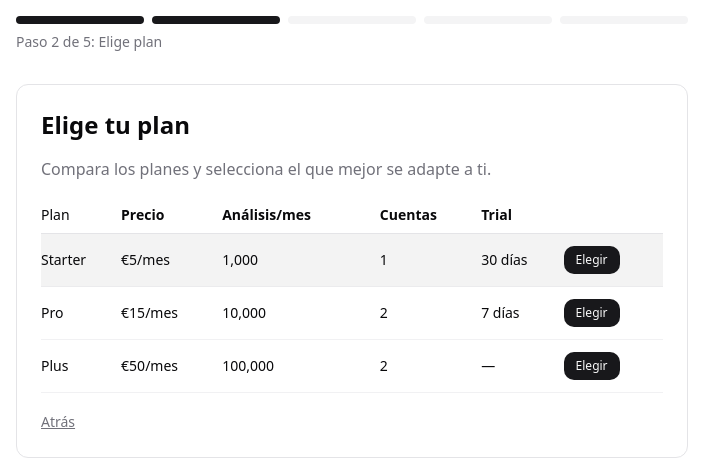
OnboardingWizard › advances from select_plan to payment and persists it when a plan is chosen
The width and height of the screenshot is (705, 475).
expect the heading "Elige tu plan" is shown: met, box [41,108,190,141]
Click the button "Elegir" in the row of "starter" at (592, 260), box [564,246,620,274]
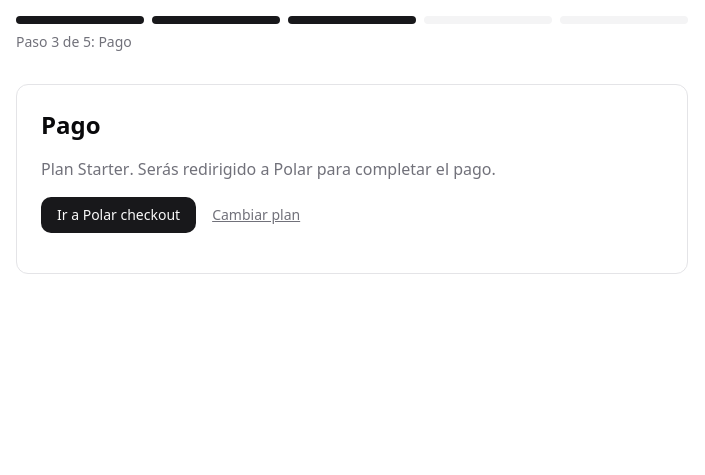
expect the heading "Pago" is shown: met, box [41,108,101,141]
